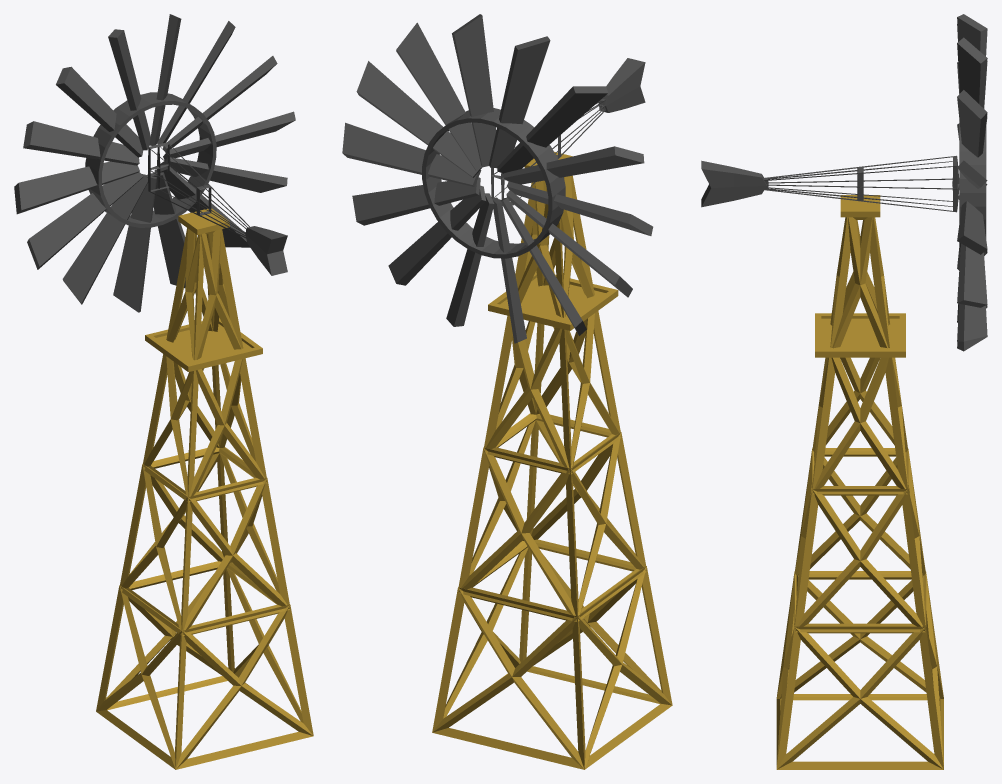
Rendered from windmill.fbx.
3 views of the same model, side by side, from view 1: azimuth 30°, elevation 25°; view 2: azimuth 150°, elevation 25°; view 3: azimuth 270°, elevation 25° (orthographic). The views are drawn at different scales.
Parts seen in each view (by area): view 1: Truss, Viens, Circle, Cube, Cube.005, Cube.006, Cube.004; view 2: Truss, Viens, Circle, Cube, Cube.006, Cube.005; view 3: Truss, Viens, Cube.005, Cube, Cube.006, Circle, Cube.004.
Part boxes in pixels (box(x1,y1,x2,y2)): Truss: box(96, 228, 313, 769); Viens: box(14, 14, 295, 312); Circle: box(85, 92, 216, 227); Cube: box(145, 317, 262, 371); Cube.005: box(148, 142, 249, 238); Cube.006: box(245, 226, 287, 275); Cube.004: box(178, 208, 229, 234); Truss: box(432, 175, 672, 769); Viens: box(342, 14, 653, 343); Circle: box(422, 108, 565, 258); Cube: box(488, 271, 618, 330); Cube.006: box(598, 58, 645, 112); Cube.005: box(491, 98, 605, 205); Truss: box(776, 217, 943, 769); Viens: box(957, 14, 987, 351); Cube.005: box(764, 155, 959, 212); Cube: box(815, 313, 905, 357); Cube.006: box(701, 160, 766, 207); Circle: box(959, 121, 986, 254); Cube.004: box(840, 195, 880, 217).
Size of the model in its own units: 468 by 1081 by 398.
